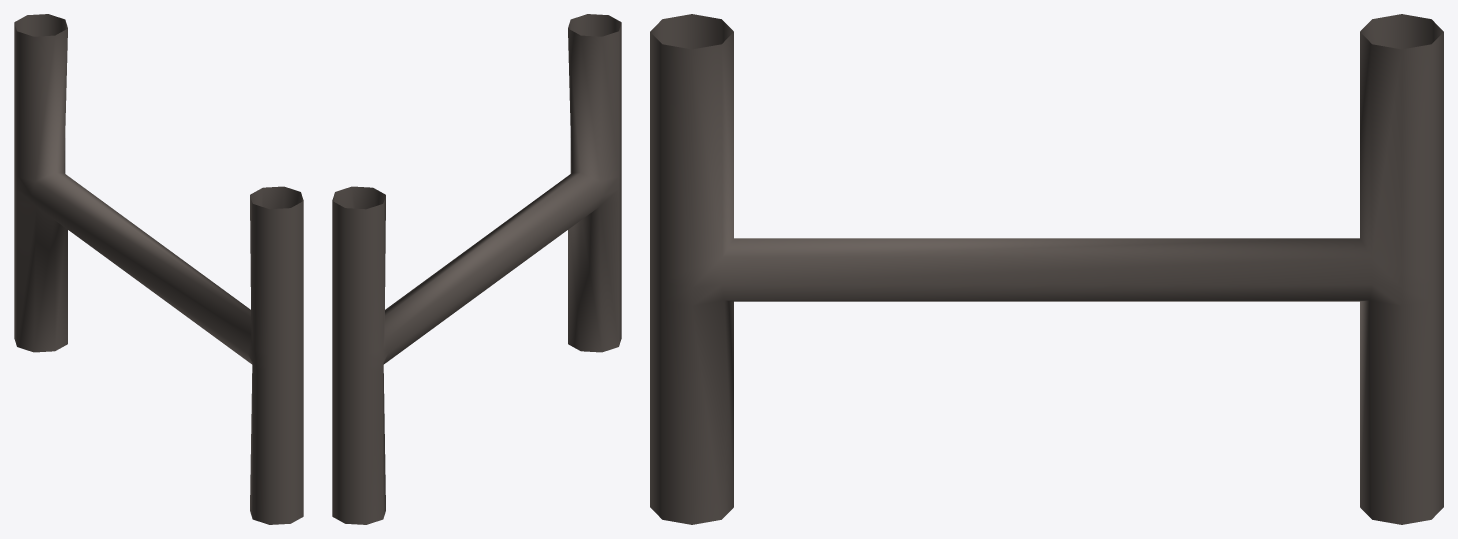
Rendered from SM_LadderPiece.fbx.
The picture shows the model from 3 angles, left to right: view 1: azimuth 30°, elevation 25°; view 2: azimuth 150°, elevation 25°; view 3: azimuth 270°, elevation 25°; orthographic projection. The views are drawn at different scales.
Parts seen in each view (by area): view 1: LadderPiece; view 2: LadderPiece; view 3: LadderPiece.
Part boxes in pixels (box(x1,y1,x2,y2)): LadderPiece: box(14, 14, 303, 524); LadderPiece: box(332, 14, 621, 524); LadderPiece: box(650, 14, 1443, 524).
Size of the model in its own units: 8 by 50 by 75.64.
